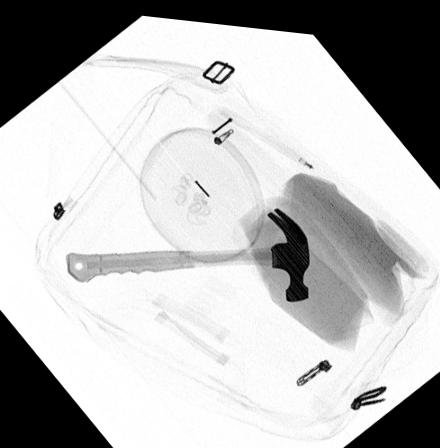Hammer: (65, 199, 311, 295)
